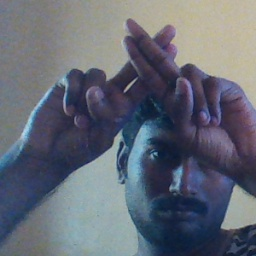F: (93, 14, 214, 136)
